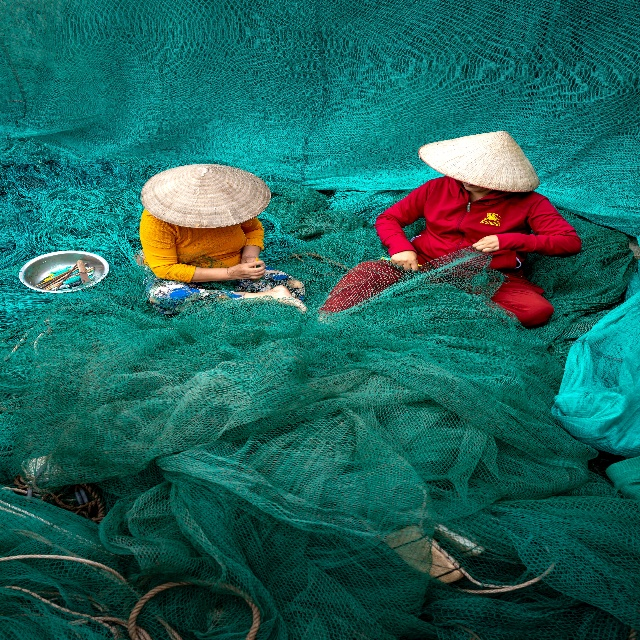Sin_guantes: (229, 261, 266, 281), (471, 232, 498, 254), (391, 253, 418, 270)
